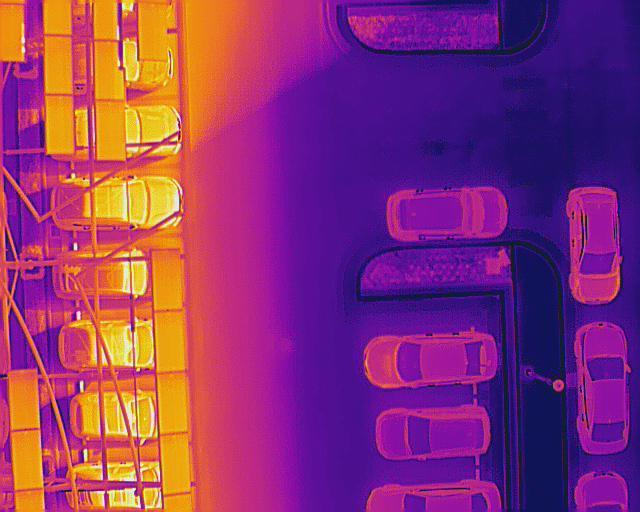No-Anomaly: (151, 250, 182, 313), (95, 100, 126, 160), (156, 310, 185, 373), (157, 372, 186, 435), (13, 430, 42, 491), (137, 3, 167, 61), (45, 95, 74, 154), (161, 434, 189, 495), (10, 370, 38, 430), (45, 35, 72, 96), (93, 41, 117, 98)
Unclassified: (0, 3, 26, 62)
